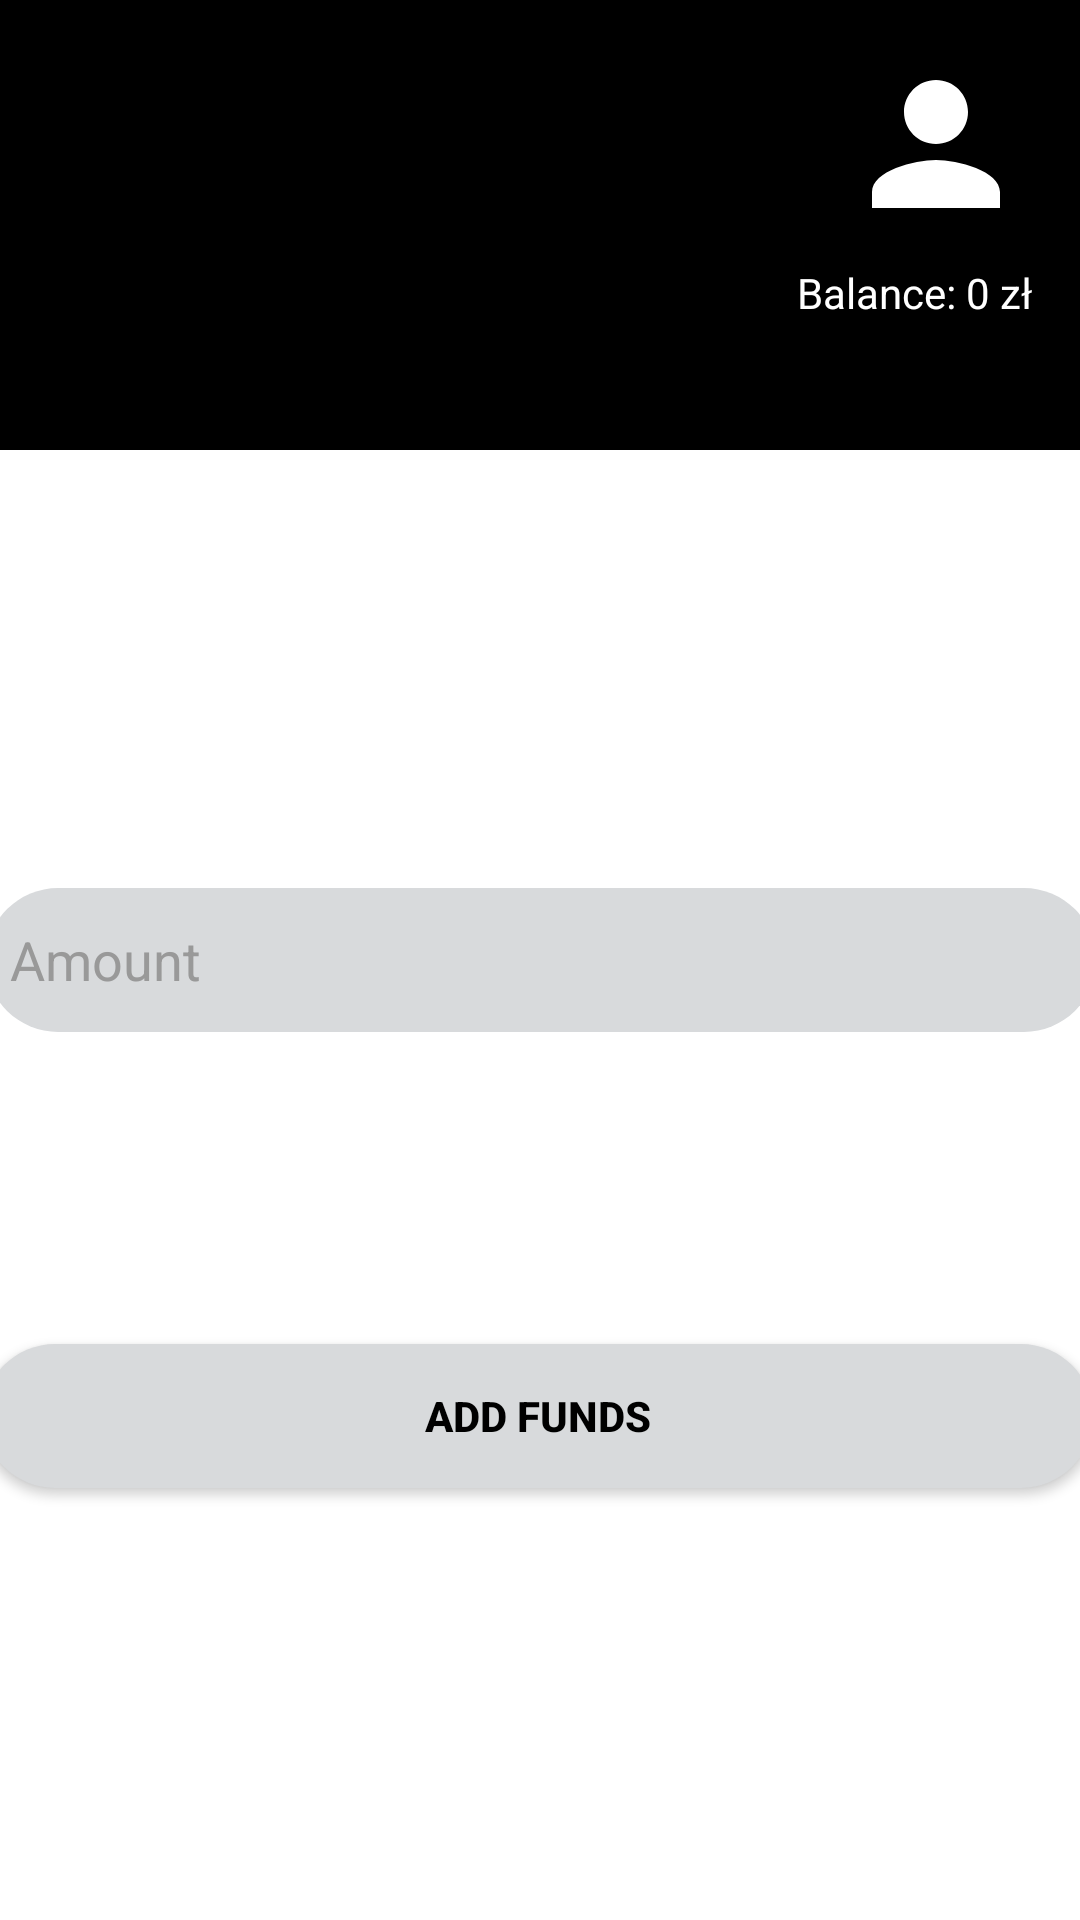

Where to tap for icons on this 1080*1920 app screen, as (x=x, y=y):
person: (x=936, y=144)
